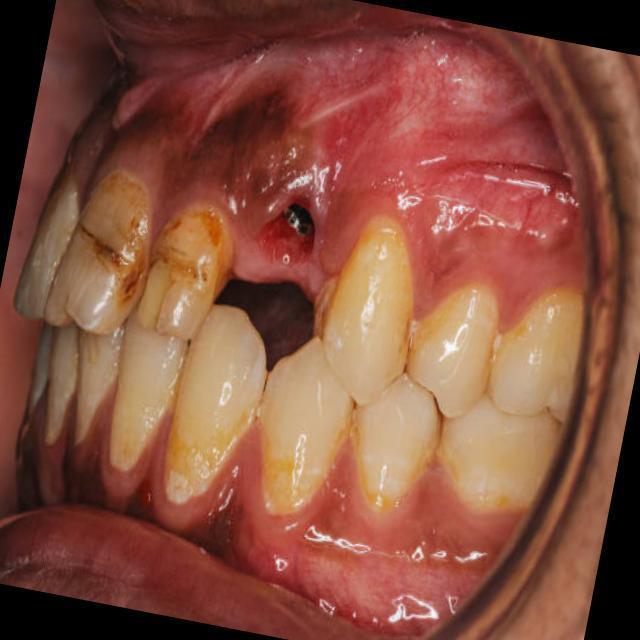bleeding: (192, 80, 302, 214)
redness: (418, 145, 574, 263), (103, 87, 179, 177), (151, 499, 213, 552)
